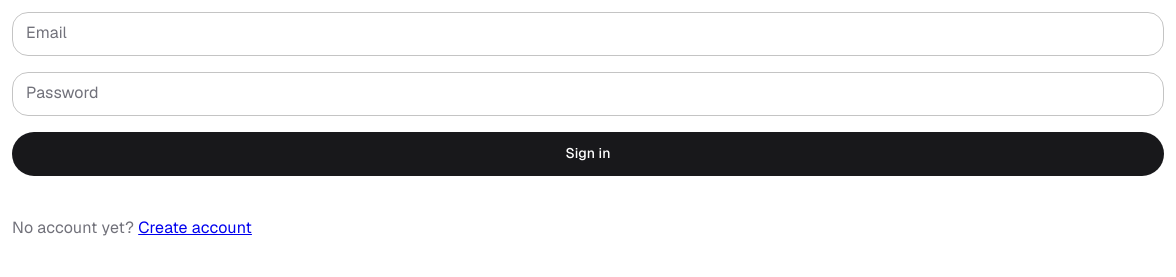
Test: LoginForm › shows a field error and does not submit an invalid email
Type "ada" into the field labelled "Email" at [588, 34], box [12,14,1164,54]
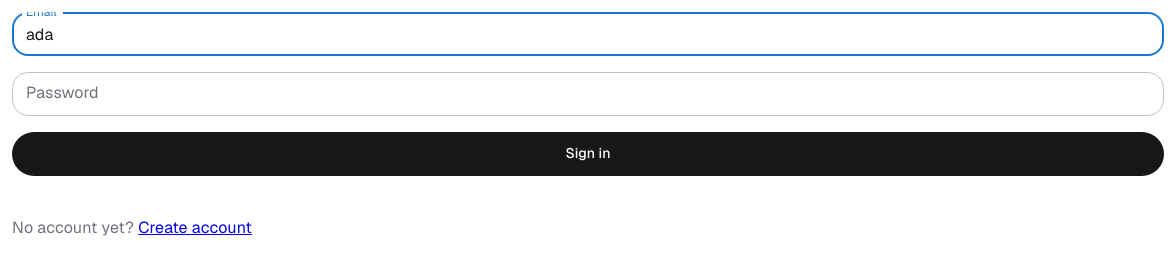
Type "long-enough" into the password field labelled "Password" at [588, 94], box [12,74,1164,114]
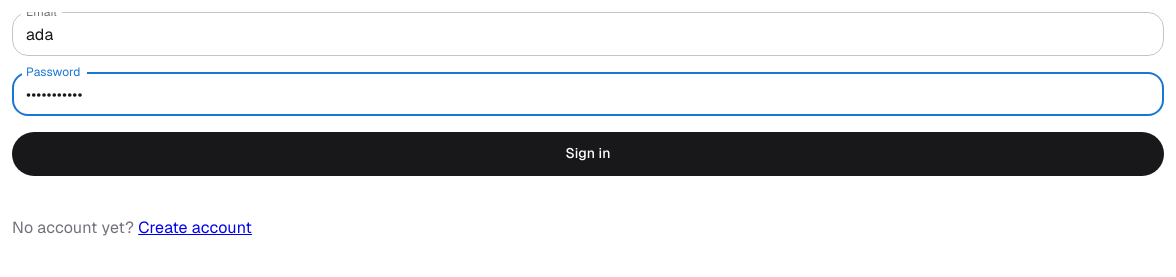
Click the button "Sign in" at [588, 154], box [12,132,1164,176]
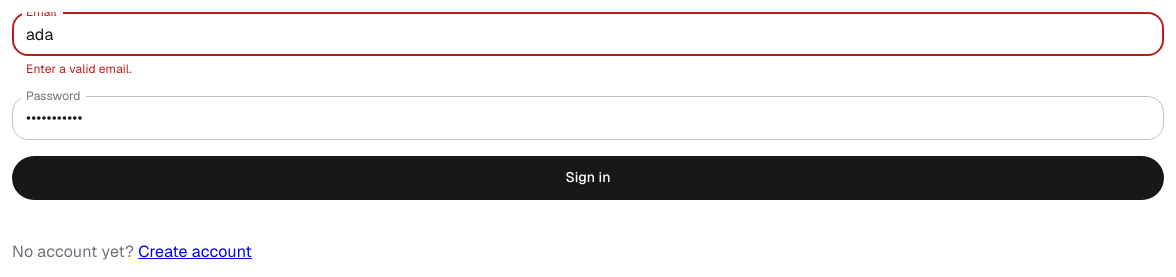
Expected: the text "Enter a valid email." is shown, [26,61,132,77]
